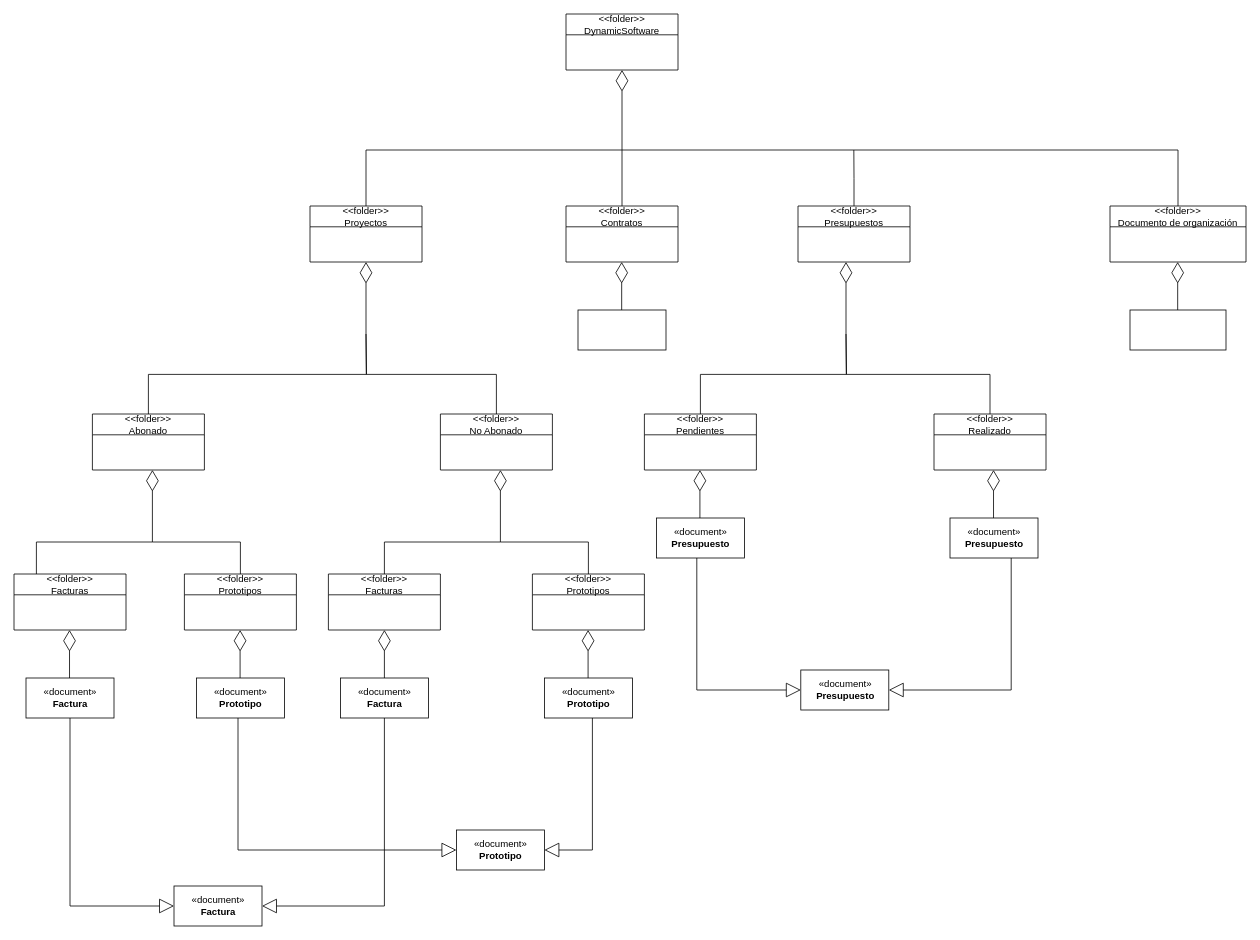
This 1260x940 diagram has some shape labels left out. Each missing label, with the centre of its shape:
"«document» Contrato" goes at point (621, 329).
"«document» Planificación" goes at point (1177, 329).
